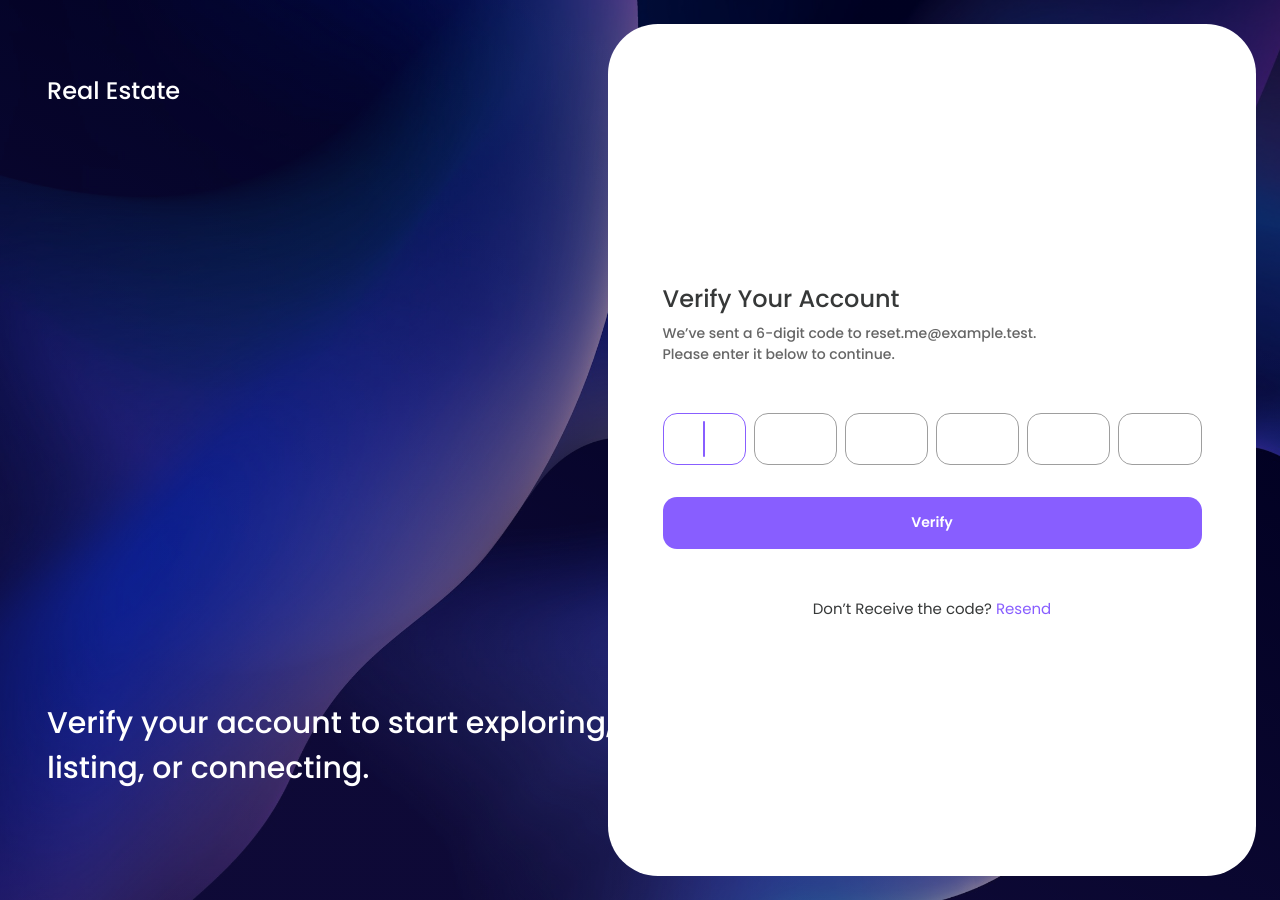
it: VerifyResetCodePage › shows the 429 resendLimit message as returned
The image size is (1280, 900).
Click the button "Resend": (1024, 608) [996,596,1051,620]
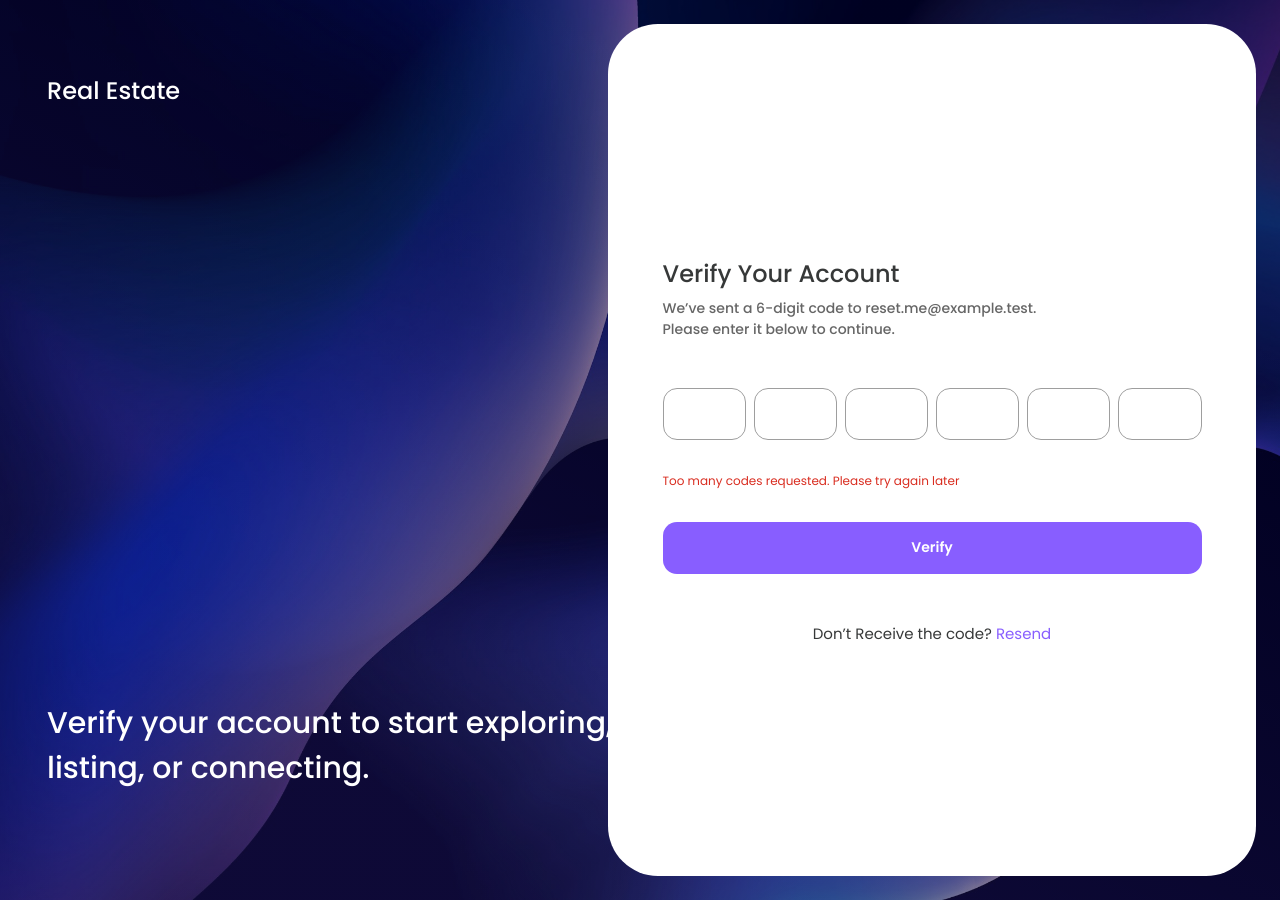
Expected: the message reads "Too many codes requested. Please try again later", [662,472,959,488]
